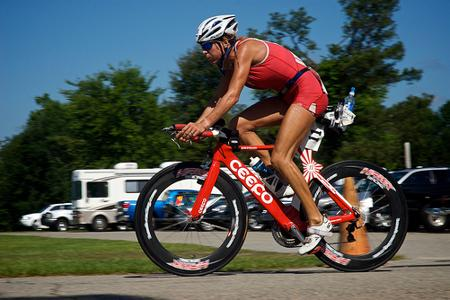person: (176, 17, 334, 258)
